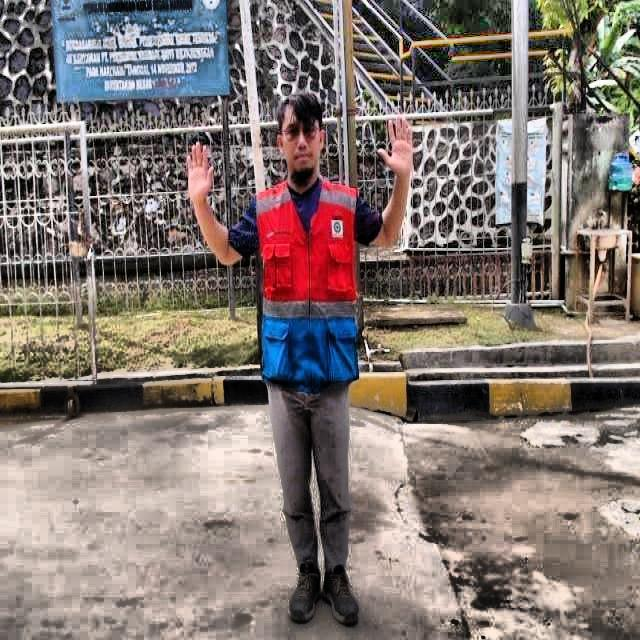safety_jacket: (256, 179, 363, 387)
